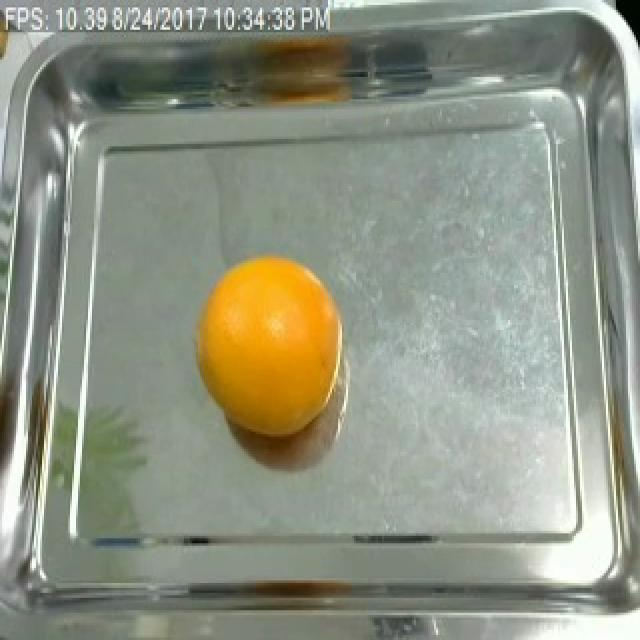Fruit: (188, 246, 348, 442)
